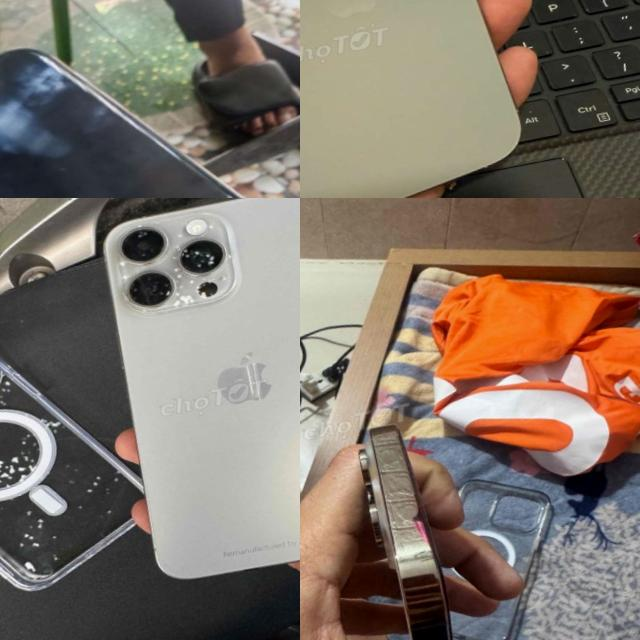gen_11: (0, 0, 300, 198)
gen_14: (336, 397, 506, 640)
gen_15: (86, 198, 300, 613)
gen_16: (300, 0, 542, 198)
